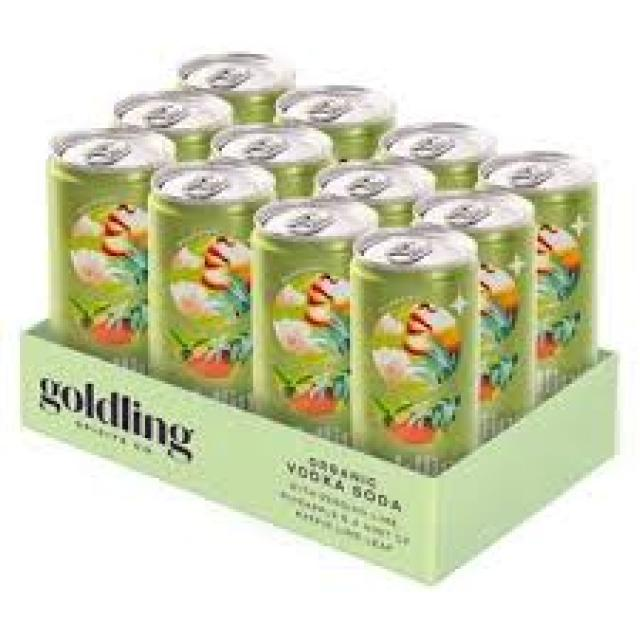Cans: (347, 225, 484, 478), (37, 125, 165, 367), (142, 162, 268, 398), (248, 194, 364, 432)
